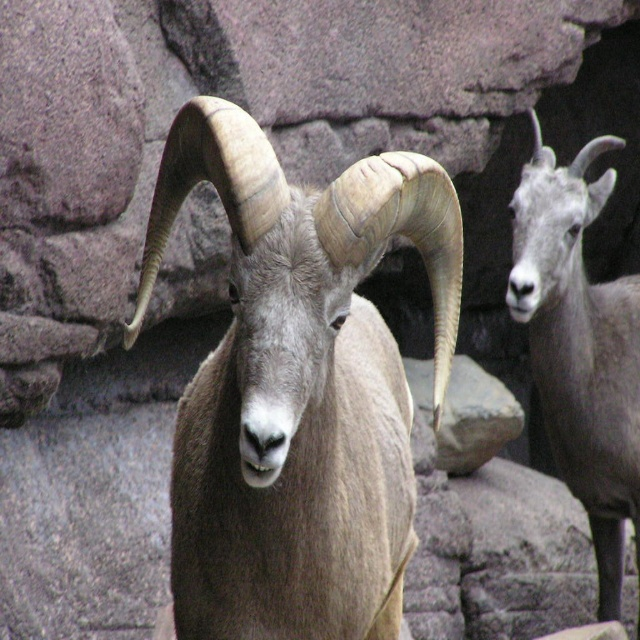Goat: (123, 96, 464, 640), (506, 106, 640, 640)
